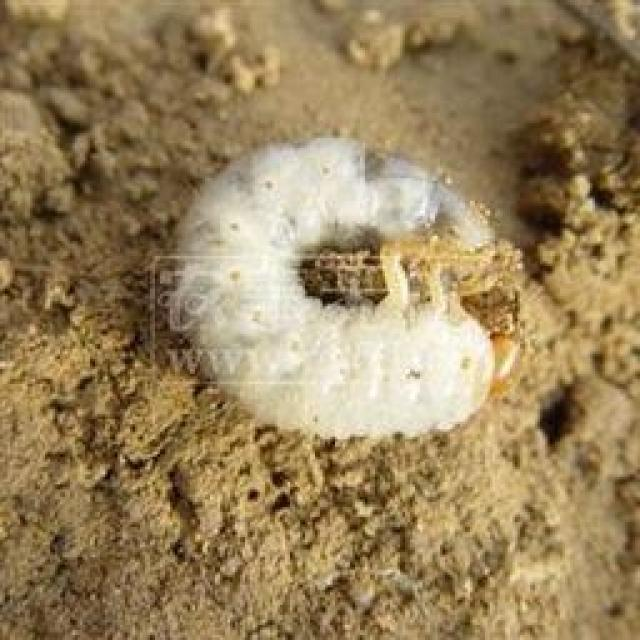grub: (164, 138, 519, 441)
